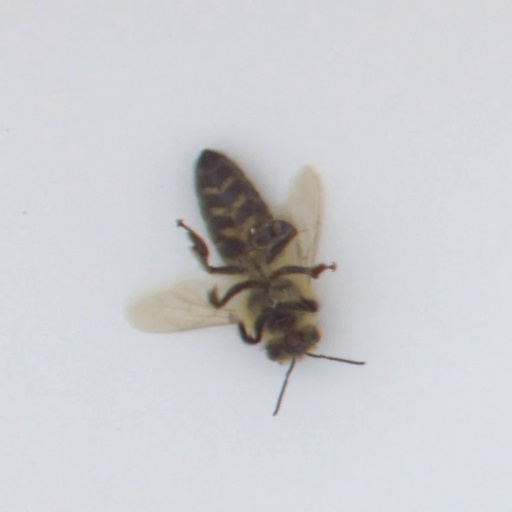Bee: (170, 138, 331, 376)
